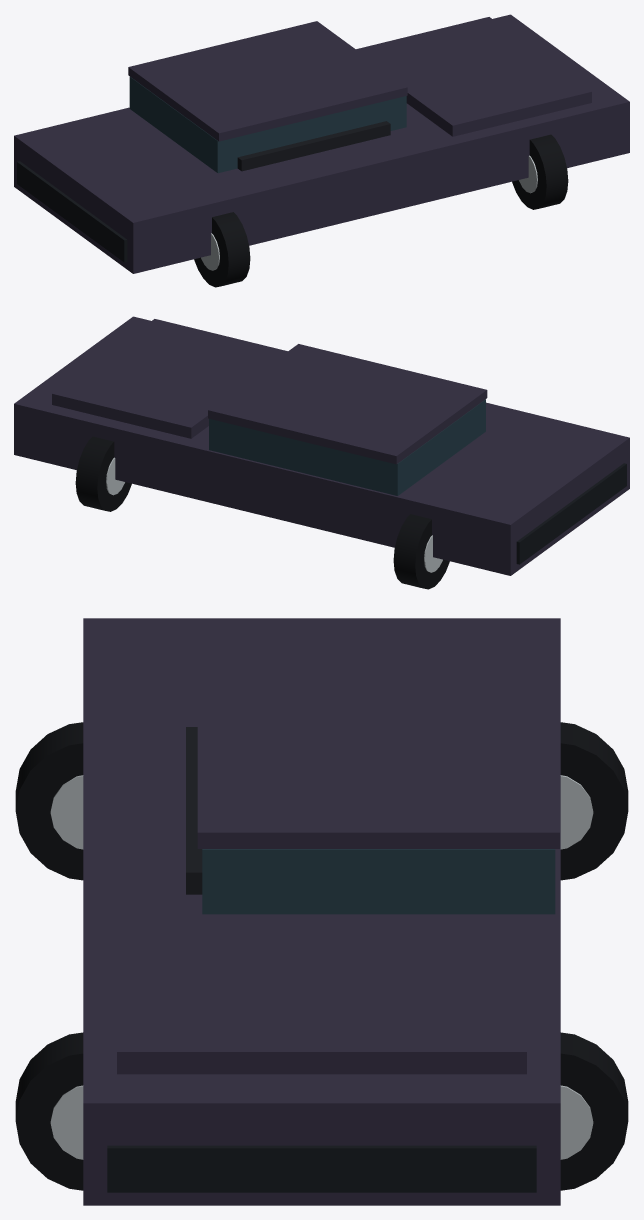
File: lambo_fenomeno.glb
The picture shows the model from 3 angles, top to bottom: view 1: azimuth 30°, elevation 25°; view 2: azimuth 150°, elevation 25°; view 3: azimuth 270°, elevation 25°; orthographic projection. The views are drawn at different scales.
Visible parts, largest first — view 1: body, roof, hood, cabin, front_right_wheel, rear_bumper, rear_right_wheel, interior; view 2: body, roof, hood, cabin, front_left_wheel, rear_bumper, rear_left_wheel; view 3: body, roof, hood, cabin, front_bumper, front_left_wheel, front_right_wheel, rear_left_wheel, rear_right_wheel, interior.
Boxes of the visible parts, box(x1,y1,x2,y2) form: body: box(14, 14, 629, 273); roof: box(128, 21, 407, 141); hood: box(356, 17, 591, 136); cabin: box(129, 76, 406, 173); front_right_wheel: box(512, 134, 568, 209); rear_bumper: box(17, 161, 127, 262); rear_right_wheel: box(194, 212, 250, 287); interior: box(237, 121, 390, 171); body: box(14, 316, 629, 575); roof: box(208, 344, 487, 464); hood: box(52, 319, 287, 438); cabin: box(209, 399, 485, 495); front_left_wheel: box(75, 436, 131, 511); rear_bumper: box(516, 463, 626, 564); rear_left_wheel: box(393, 514, 449, 589); body: box(83, 618, 560, 1205); roof: box(197, 648, 559, 848); hood: box(117, 916, 526, 1074); cabin: box(202, 849, 555, 914); front_bumper: box(107, 1145, 536, 1192); front_left_wheel: box(560, 1032, 628, 1190); front_right_wheel: box(15, 1032, 83, 1190); rear_left_wheel: box(560, 722, 628, 880); rear_right_wheel: box(15, 722, 83, 880); interior: box(186, 727, 202, 894).
Size of the model in its own units: 5.11 by 1.2 by 2.7.
